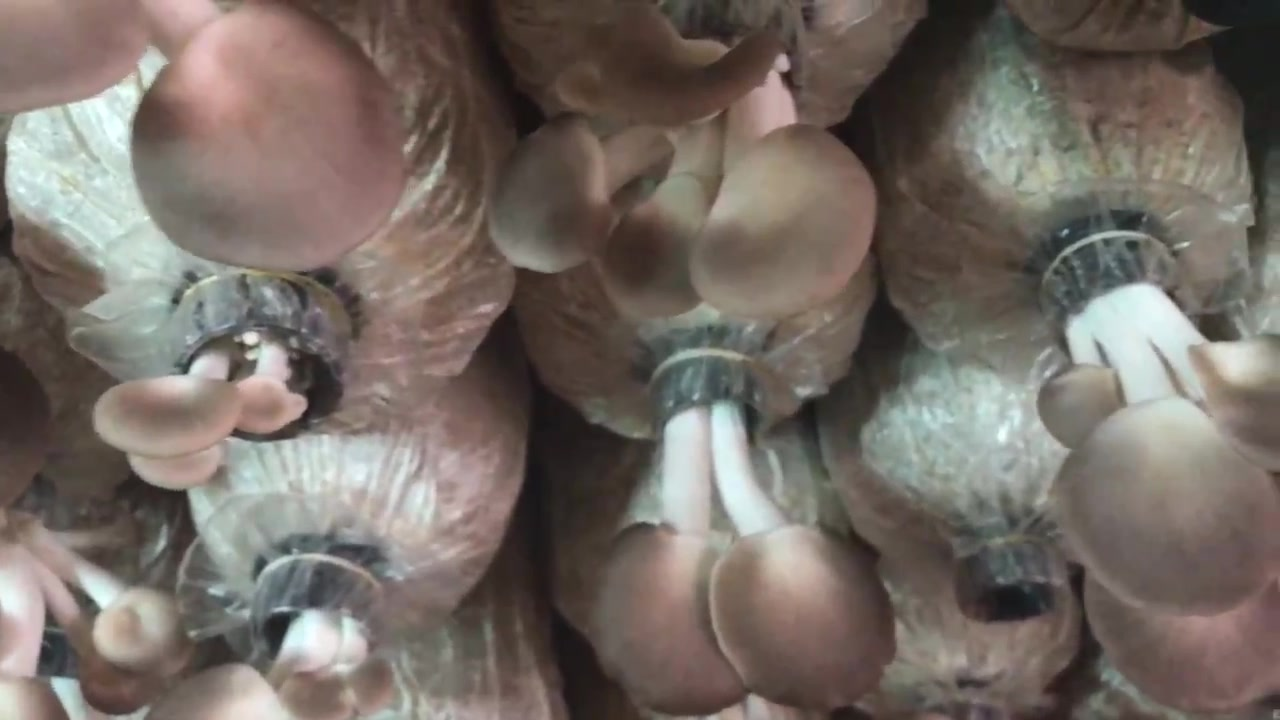nam: (495, 12, 875, 321), (1039, 237, 1280, 707), (591, 355, 891, 717), (13, 1, 400, 271), (98, 278, 364, 487), (1, 513, 191, 719), (153, 564, 393, 720)
